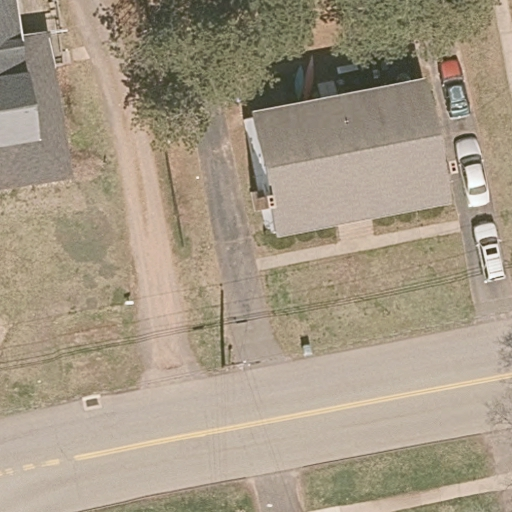DT: (220, 344, 260, 372)
